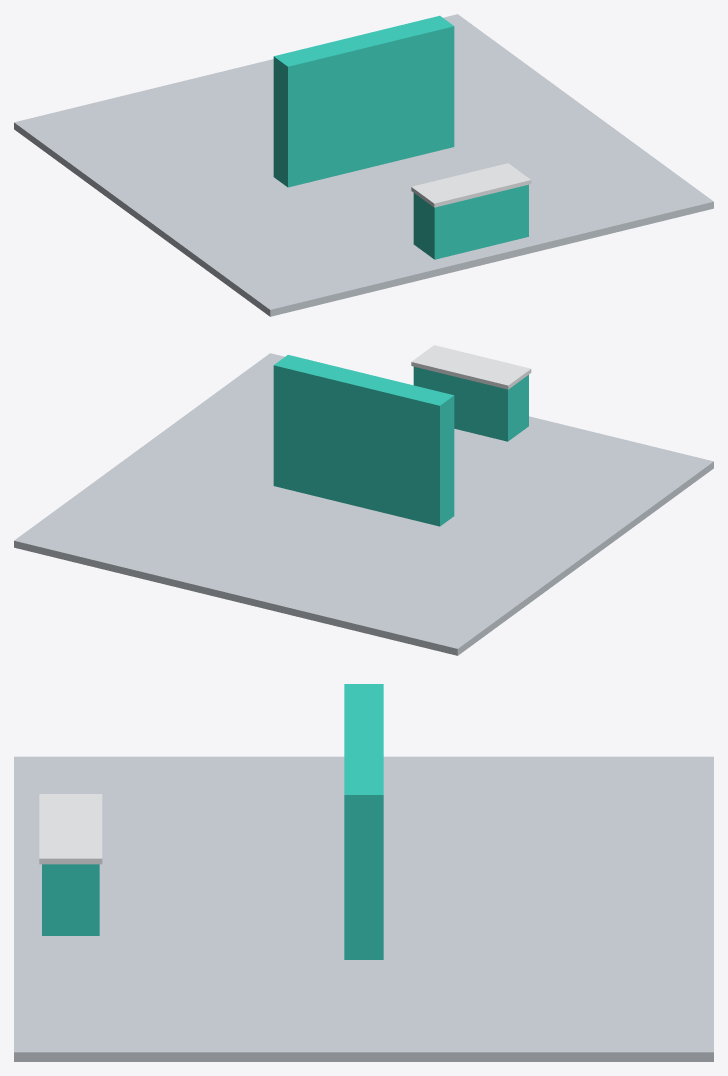
3 renders of one model, top to bottom at view 1: azimuth 30°, elevation 25°; view 2: azimuth 150°, elevation 25°; view 3: azimuth 270°, elevation 25°, orthographic. The views are drawn at different scales.
Parts seen in each view (by area): view 1: Exhibition Booth Concept; view 2: Exhibition Booth Concept; view 3: Exhibition Booth Concept.
Part boxes in pixels (x1=…): Exhibition Booth Concept: x1=14, y1=14, x2=713, y2=316; Exhibition Booth Concept: x1=14, y1=345, x2=713, y2=655; Exhibition Booth Concept: x1=14, y1=684, x2=713, y2=1061.
Size of the model in its own units: 8 by 2.2 by 8.
